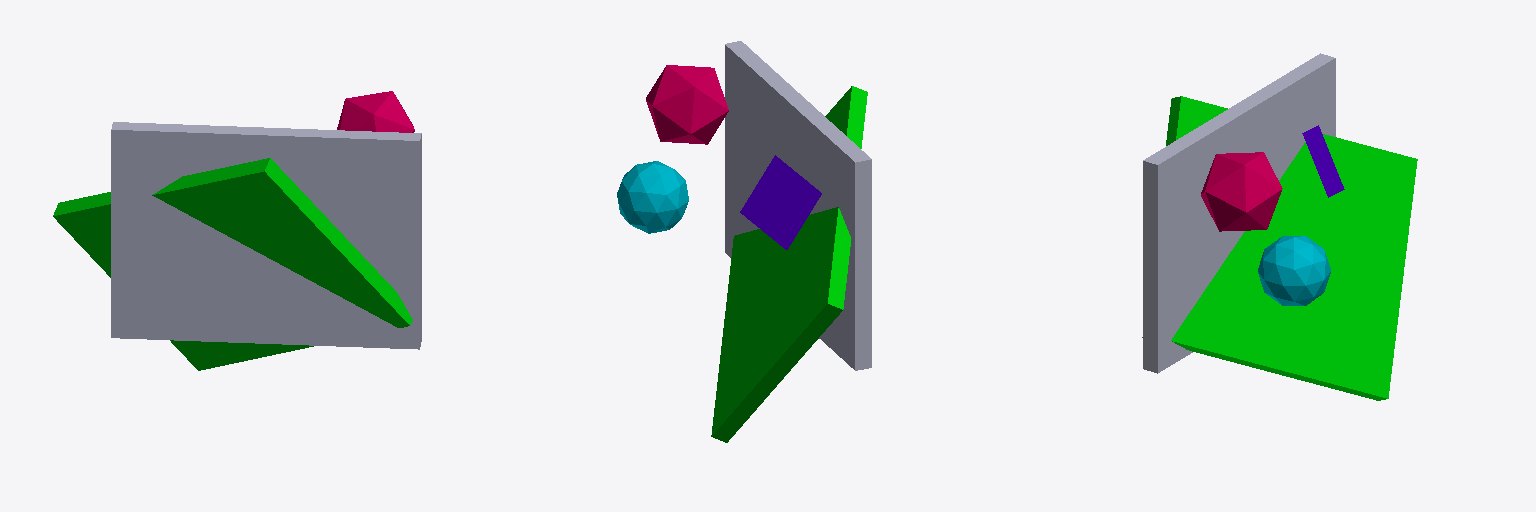
Rendered from geometryScene.obj.
3 views of the same model, side by side, from view 1: azimuth 30°, elevation 25°; view 2: azimuth 150°, elevation 25°; view 3: azimuth 270°, elevation 25° (orthographic).
Visible parts, largest first — view 1: Cube_Cube.001, Cube.001_Cube, Icosphere.001; view 2: Cube_Cube.001, Cube.001_Cube, Icosphere.001, Plane, Icosphere; view 3: Cube.001_Cube, Cube_Cube.001, Icosphere.001, Icosphere, Plane.
Boxes of the visible parts, x1=… form: Cube_Cube.001: x1=111, y1=122, x2=421, y2=349; Cube.001_Cube: x1=53, y1=158, x2=412, y2=370; Icosphere.001: x1=337, y1=91, x2=414, y2=132; Cube_Cube.001: x1=725, y1=41, x2=871, y2=370; Cube.001_Cube: x1=711, y1=86, x2=867, y2=442; Icosphere.001: x1=646, y1=65, x2=728, y2=144; Plane: x1=740, y1=155, x2=821, y2=249; Icosphere: x1=617, y1=161, x2=688, y2=233; Cube.001_Cube: x1=1142, y1=96, x2=1417, y2=400; Cube_Cube.001: x1=1143, y1=53, x2=1335, y2=373; Icosphere.001: x1=1201, y1=152, x2=1282, y2=231; Icosphere: x1=1258, y1=236, x2=1330, y2=305; Plane: x1=1302, y1=125, x2=1344, y2=197.
Bounding box in the file's own units: 17.46 × 17.86 × 14.94.